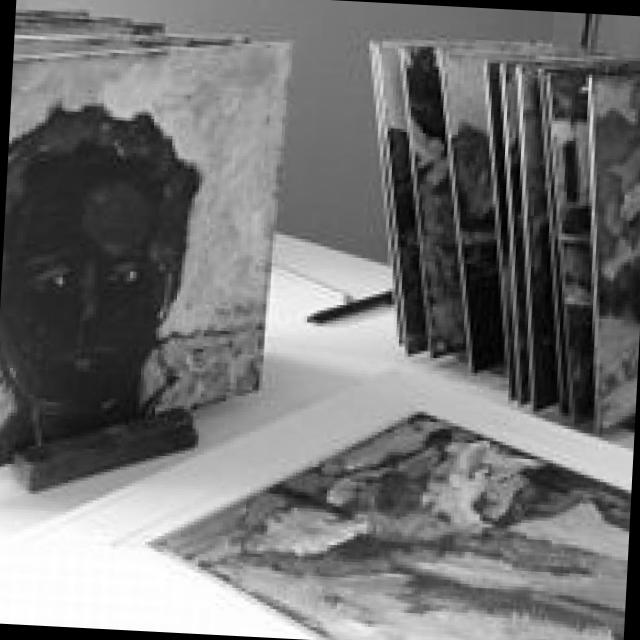picture crop: (0, 36, 287, 462)
pictures: (14, 6, 251, 51)
pictures in frames: (364, 31, 640, 437)
table -X: (0, 128, 633, 640)
wall clock: (10, 0, 640, 346)
